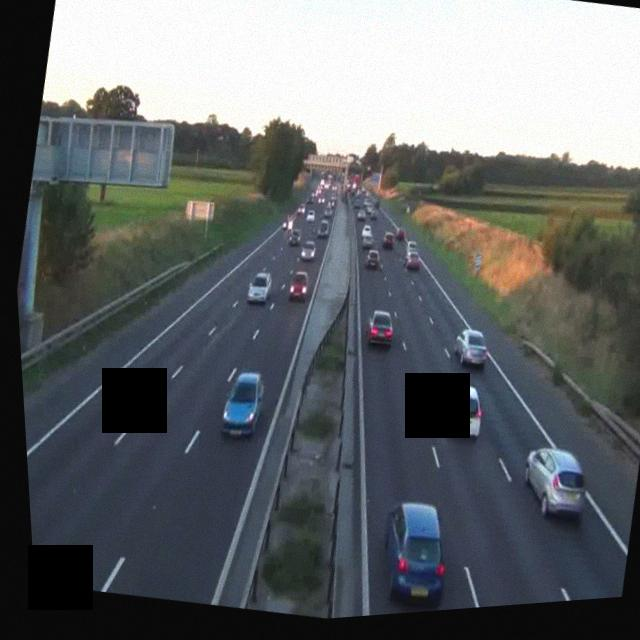car: (371, 496, 460, 611), (517, 441, 595, 525), (218, 367, 271, 442), (436, 380, 488, 441), (449, 324, 492, 371), (363, 306, 398, 351), (246, 268, 275, 307), (285, 268, 312, 303), (403, 246, 425, 273), (363, 245, 384, 269), (314, 219, 332, 242), (359, 228, 376, 251), (288, 226, 304, 247), (381, 231, 397, 250), (394, 226, 409, 243), (283, 214, 296, 231), (305, 208, 318, 224), (323, 205, 335, 221), (356, 206, 367, 221), (326, 197, 337, 209)
